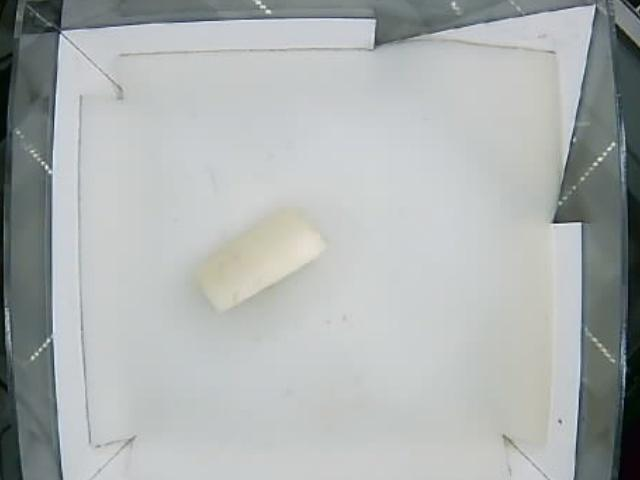Mooli: (196, 205, 324, 310)
